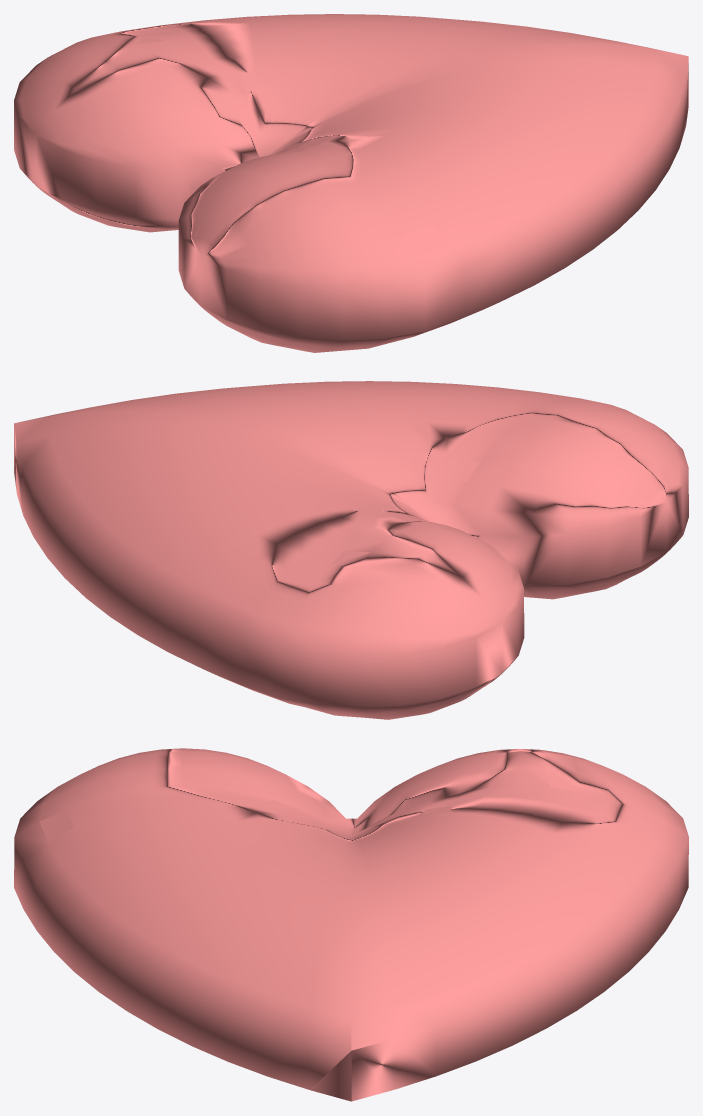
3 views of the same model, one above another, from view 1: azimuth 30°, elevation 25°; view 2: azimuth 150°, elevation 25°; view 3: azimuth 270°, elevation 25° (orthographic). The views are drawn at different scales.
Parts seen in each view (by area): view 1: Mesh1_Model.011; view 2: Mesh1_Model.011; view 3: Mesh1_Model.011.
Boxes of the visible parts, <box> form: Mesh1_Model.011: <box>14,14,688,352</box>; Mesh1_Model.011: <box>14,381,688,719</box>; Mesh1_Model.011: <box>14,748,688,1101</box>.
Bounding box in the file's own units: 1 × 0.2655 × 1.
